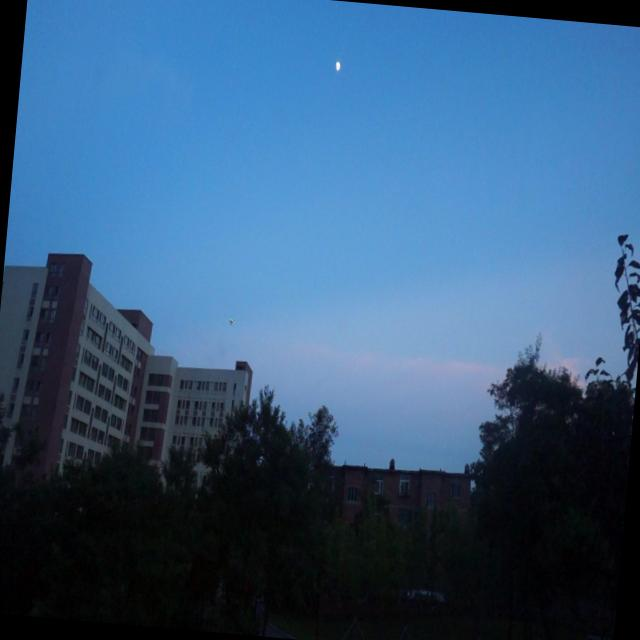drone: (224, 309, 238, 331)
